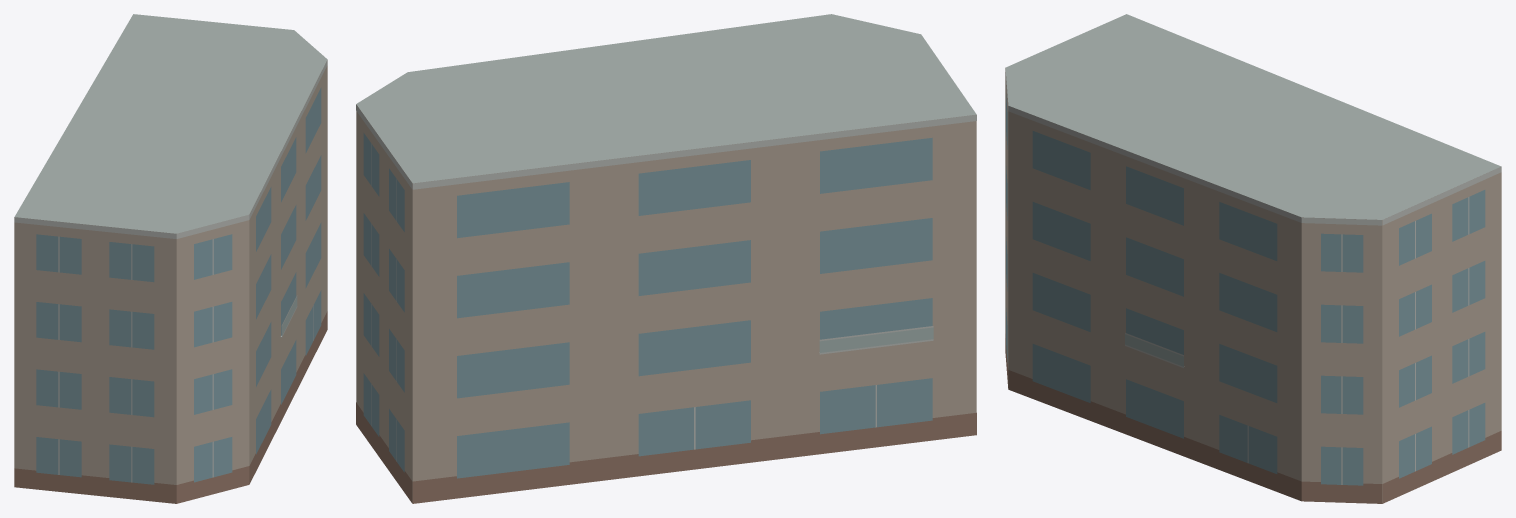
The model's file is survey-upis-32669355.glb.
3 renders of one model, left to right at view 1: azimuth 30°, elevation 25°; view 2: azimuth 150°, elevation 25°; view 3: azimuth 270°, elevation 25°, orthographic. The views are drawn at different scales.
Visible parts, largest first — view 1: survey-upis-32669355.tmp; view 2: survey-upis-32669355.tmp; view 3: survey-upis-32669355.tmp.
Part boxes in pixels (<box>): survey-upis-32669355.tmp: <box>14,14,327,503</box>; survey-upis-32669355.tmp: <box>356,14,976,503</box>; survey-upis-32669355.tmp: <box>1005,14,1501,503</box>.
Bounding box in the file's own units: 18.99 × 12.2 × 19.33.
